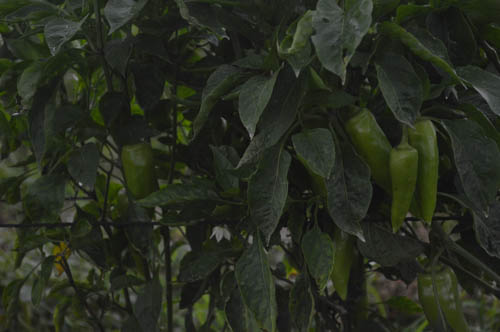ChiliPepper: (402, 125, 435, 219), (384, 147, 422, 227), (353, 112, 393, 184), (122, 141, 155, 201)
